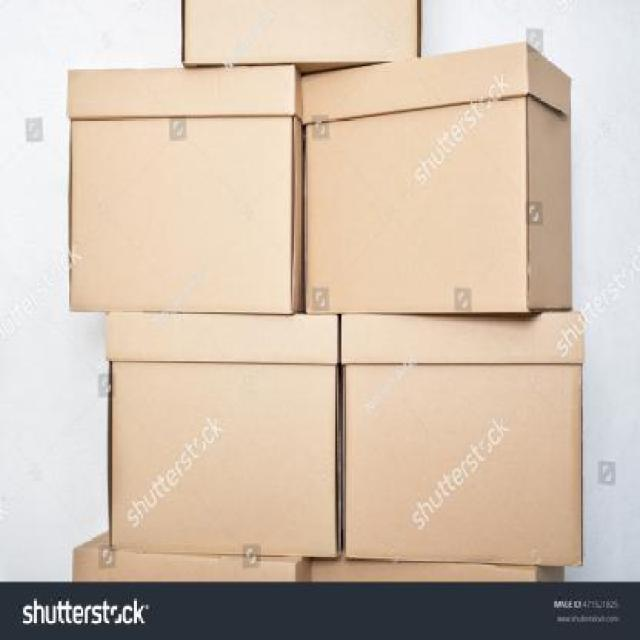BoxFace: (343, 312, 582, 565), (300, 61, 526, 312), (67, 66, 296, 312), (109, 312, 331, 558)
